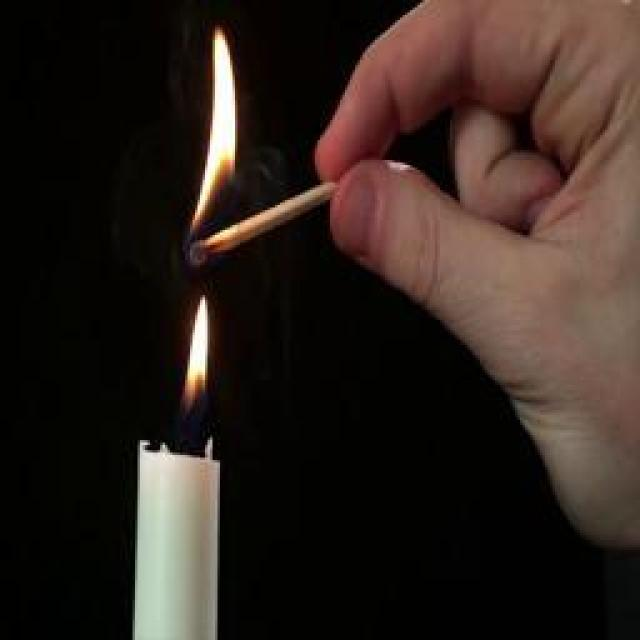Fire: (194, 32, 236, 232), (188, 294, 208, 408)
